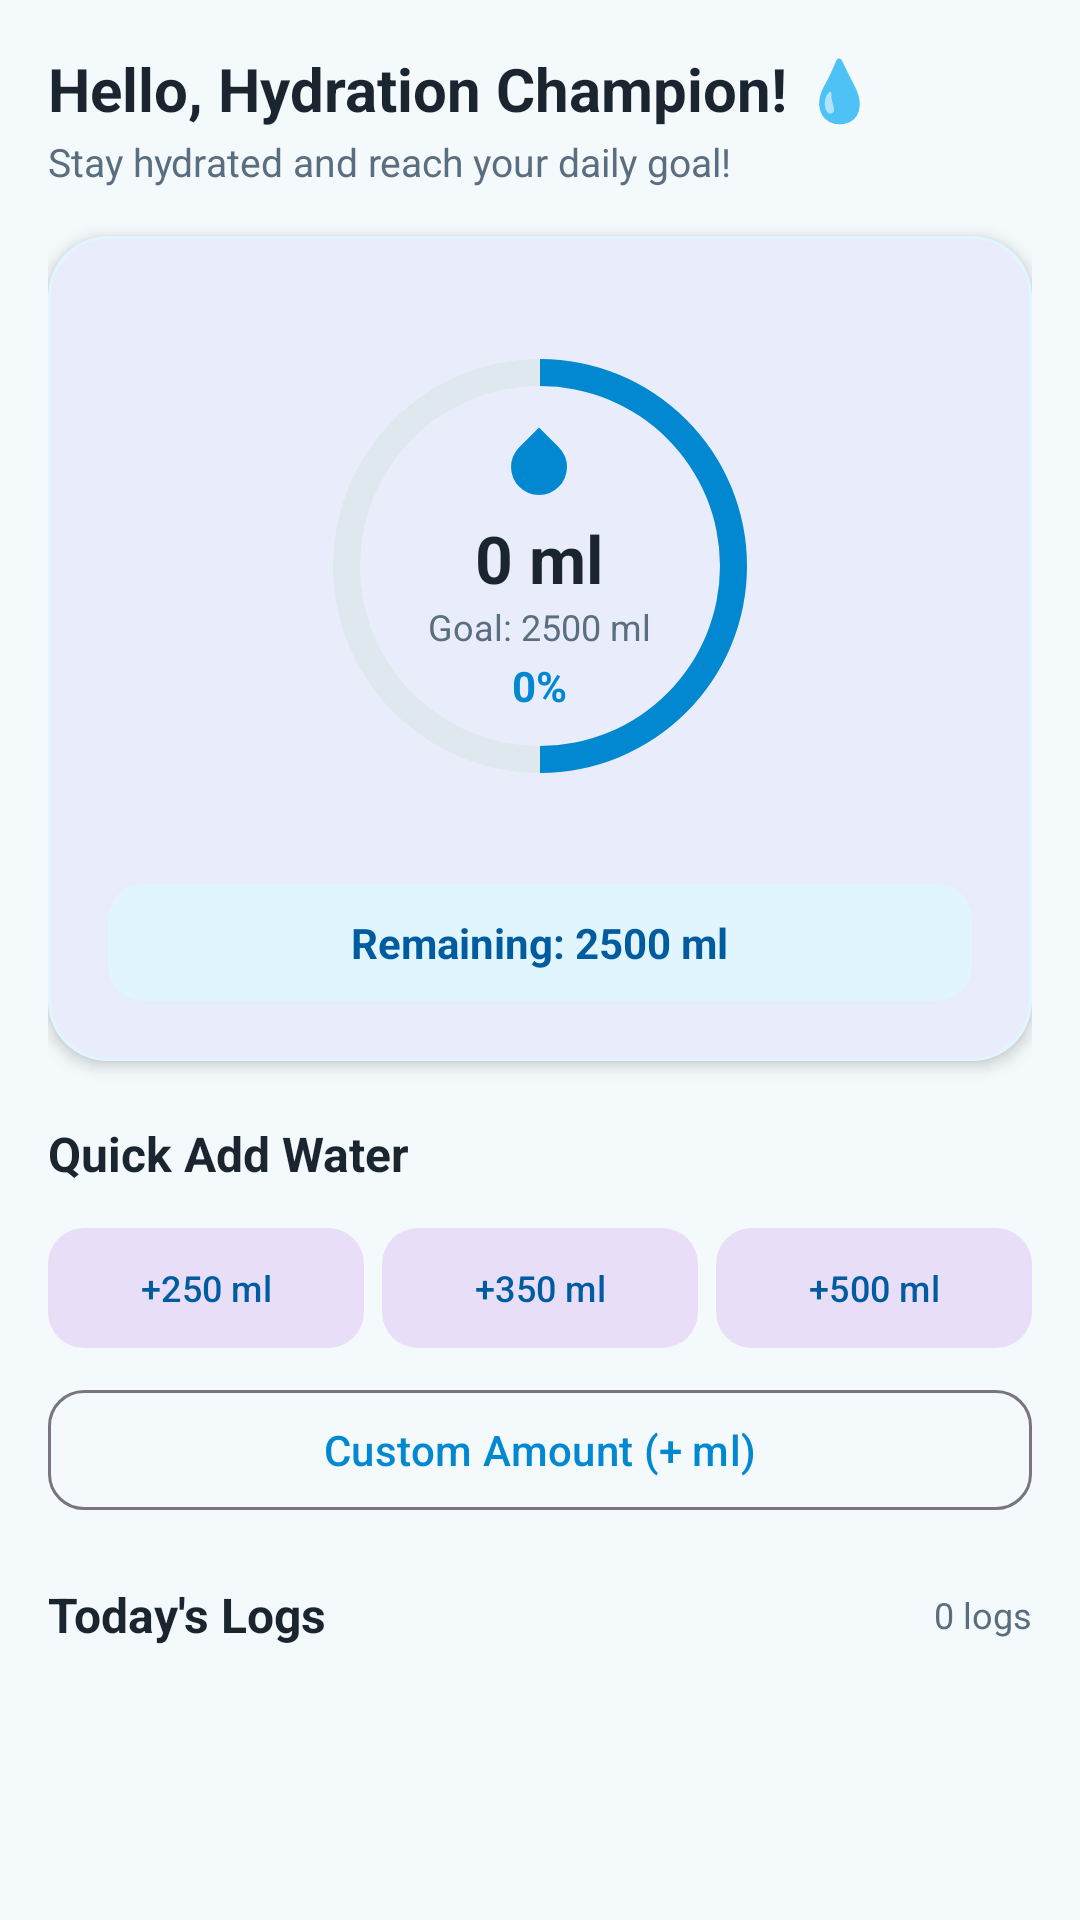

Screen size 1080px x 1920px. Icon name, then its center in pixels as [x,y]:
Water Drop: [539,461]
